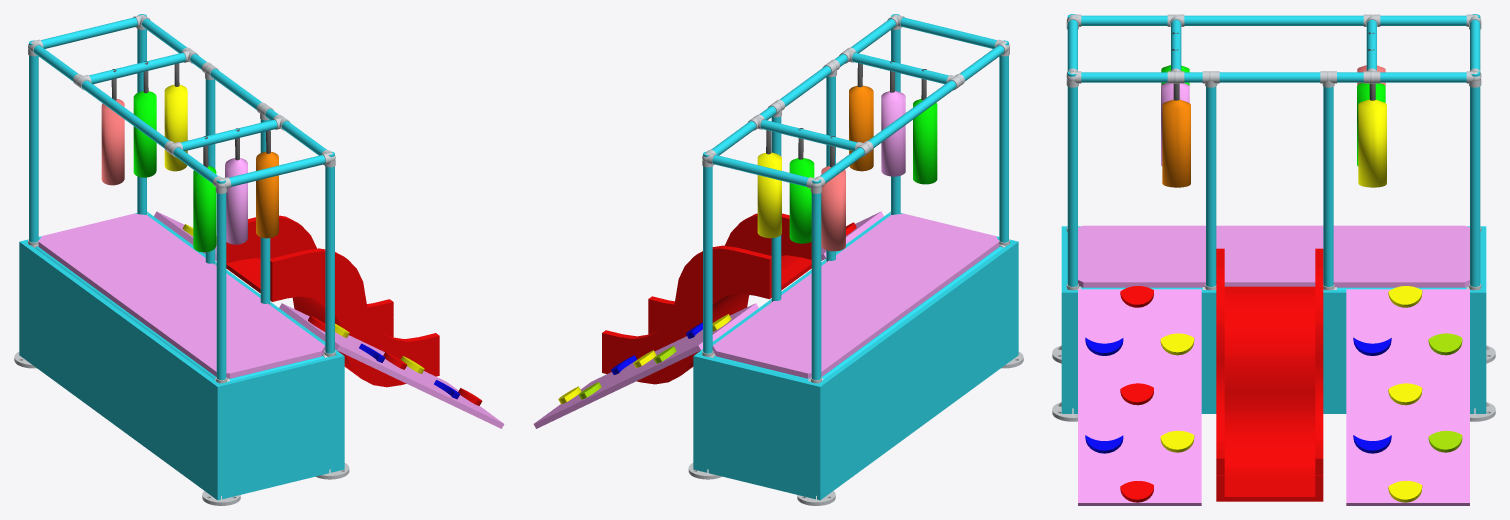
The model's file is playground-baby-tubos-redondos.glb.
3 views of the same model, side by side, from view 1: azimuth 30°, elevation 25°; view 2: azimuth 150°, elevation 25°; view 3: azimuth 270°, elevation 25° (orthographic). The views are drawn at different scales.
Parts seen in each view (by area): view 1: Group19, Group18, Group4, Group12, Group1, Group11, Tubo redondo 12, Tubo redondo 8, Group20, Tubo redondo 13, Group21, Tubo redondo 10 (+12 smaller); view 2: Group19, Group18, Group3, Group12, Group1, Group17, Tubo redondo 10, Tubo redondo 8, SACOS_DE_PANCADA_12_1, Group20, Tubo redondo 11, Group21 (+12 smaller); view 3: Group12, Group11, Group17, Group18, Group5, Tubo redondo 8, Tubo redondo 3, Group1, Group14, Group8, SACOS_DE_PANCADA_12_1, Tubo redondo 11 (+11 smaller).
Part boxes in pixels (x1,y1,x2,y2): Group19: (19,240,222,500); Group18: (38,213,325,378); Group4: (220,354,344,498); Group12: (226,215,439,387); Group1: (193,128,278,252); Group11: (279,303,504,428); Tubo redondo 12: (216,178,226,379); Tubo redondo 8: (33,45,217,183); Group20: (101,69,124,185); Tubo redondo 13: (325,151,334,353); Group21: (133,61,156,177); Tubo redondo 10: (29,40,38,242); Group19: (815,240,1018,500); Group18: (712,213,999,378); Group3: (693,354,817,498); Group12: (602,213,811,384); Group1: (849,61,937,184); Group17: (533,303,758,428); Tubo redondo 10: (811,178,821,379); Tubo redondo 8: (820,45,1004,183); SACOS_DE_PANCADA_12_1: (757,130,781,238); Group20: (821,136,845,251); Tubo redondo 11: (703,151,712,353); Group21: (789,128,814,243); Group12: (1216,248,1323,501); Group11: (1078,289,1201,505); Group17: (1346,289,1469,505); Group18: (1078,225,1469,287); Group5: (1067,290,1480,413); Tubo redondo 8: (1081,15,1466,25); Tubo redondo 3: (1081,72,1466,82); Group1: (1161,32,1190,187); Group14: (1388,286,1462,502); Group8: (1120,286,1194,502); SACOS_DE_PANCADA_12_1: (1358,83,1386,187); Tubo redondo 11: (1470,71,1480,286).
Bounding box in the file's own units: 1.83 × 1.84 × 2.15.
